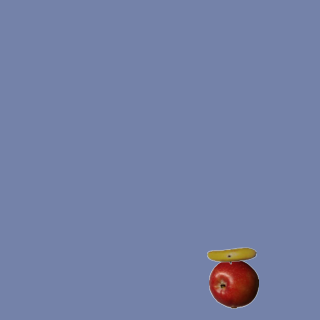Apple Braeburn: (208, 258, 258, 308)
Banana: (206, 230, 256, 280)
